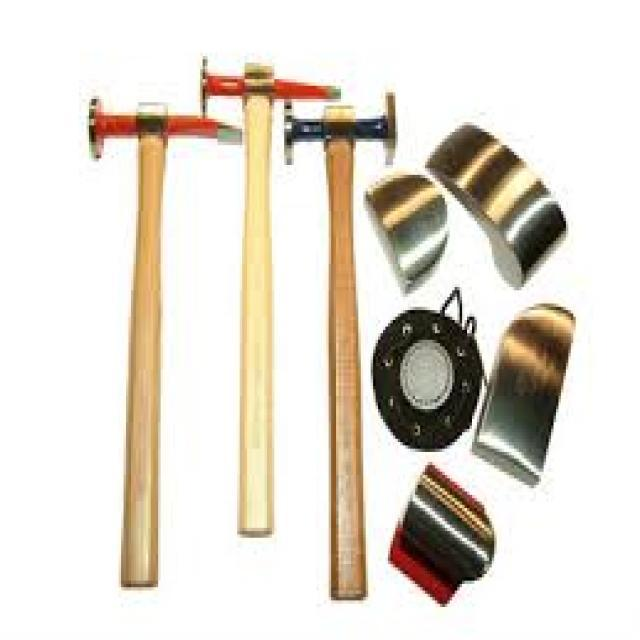hammer: (76, 78, 232, 616), (190, 50, 334, 598), (272, 83, 410, 598)
